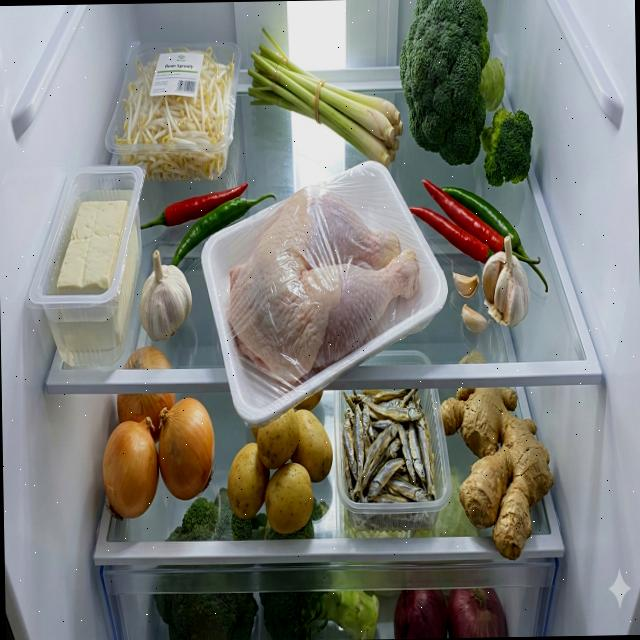anchovies: (342, 388, 437, 534)
bean_sprouts: (114, 45, 236, 184)
brocolli: (398, 0, 534, 190), (257, 495, 380, 640), (151, 486, 258, 640)
chicken: (224, 185, 422, 388)
chili: (408, 176, 548, 294), (138, 180, 278, 268)
garlic: (452, 234, 530, 334), (138, 248, 193, 342)
ginger: (439, 386, 555, 562)
lemongrass: (246, 23, 404, 170)
onion: (100, 392, 216, 521), (393, 586, 505, 638)
potato: (226, 388, 334, 536)
tofu: (54, 200, 141, 352)
